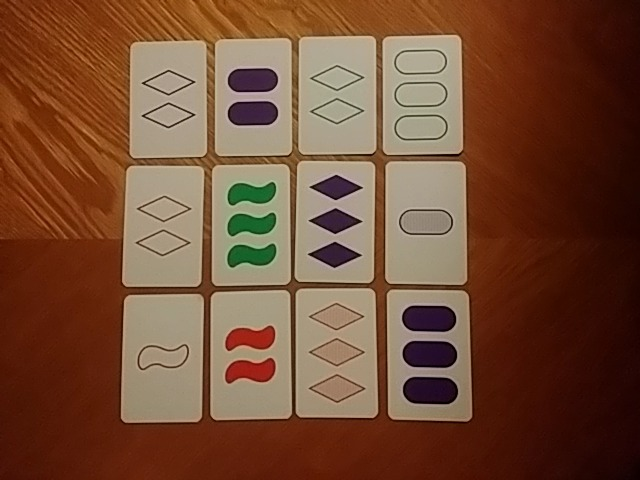1EW: (126, 297, 199, 415)
1HP: (389, 165, 462, 281)
2ED: (130, 169, 198, 282), (303, 39, 371, 150), (135, 44, 202, 154)
2FP: (219, 41, 286, 151)
2FW: (214, 295, 288, 416)
3EP: (387, 40, 459, 148)
3FD: (300, 163, 370, 277)
3FP: (391, 293, 466, 416)
3FW: (215, 169, 288, 280)
3HD: (299, 292, 374, 413)
